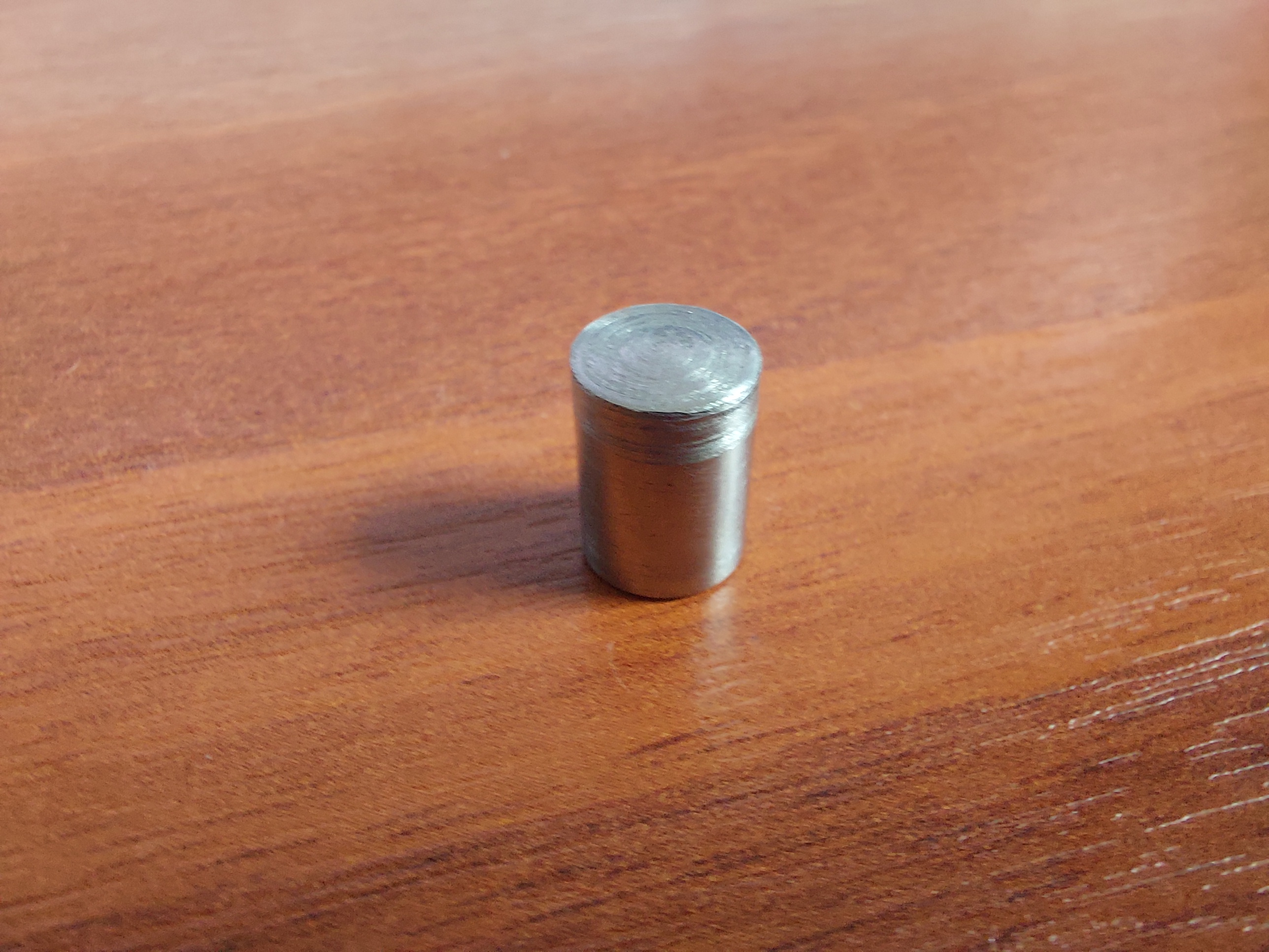tablet: (570, 303, 766, 601)
